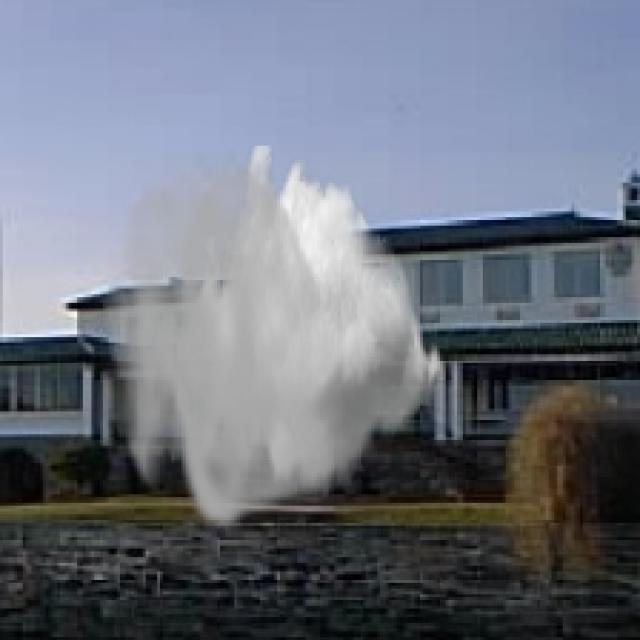Smoke: (103, 146, 446, 534)
